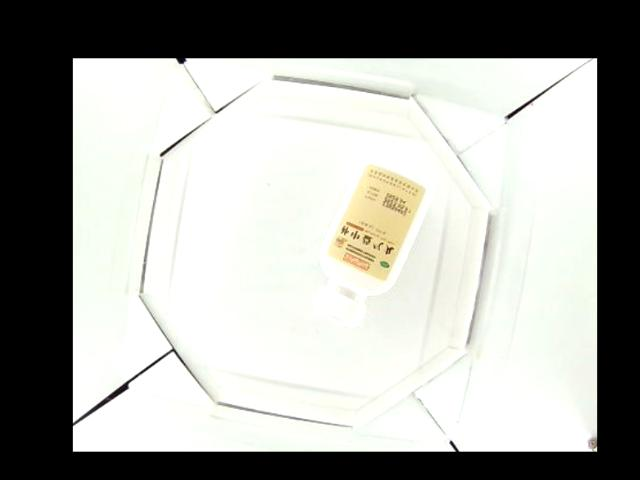Bottle: (310, 152, 437, 327)
